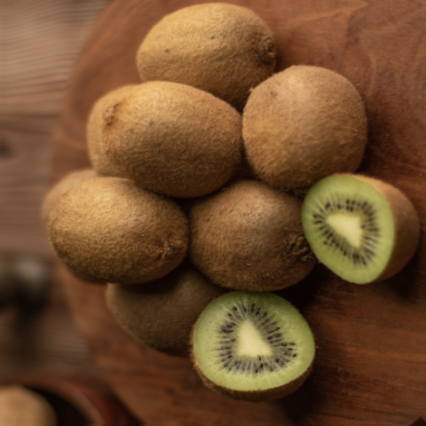kiwi: (239, 51, 366, 210), (93, 76, 240, 213), (183, 175, 325, 308), (38, 173, 185, 297), (133, 0, 292, 109)
